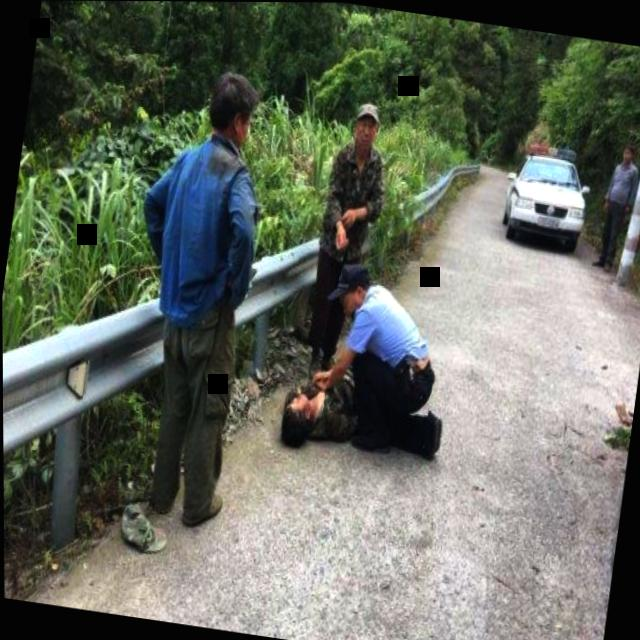Fall-Detected: (275, 343, 364, 458)
